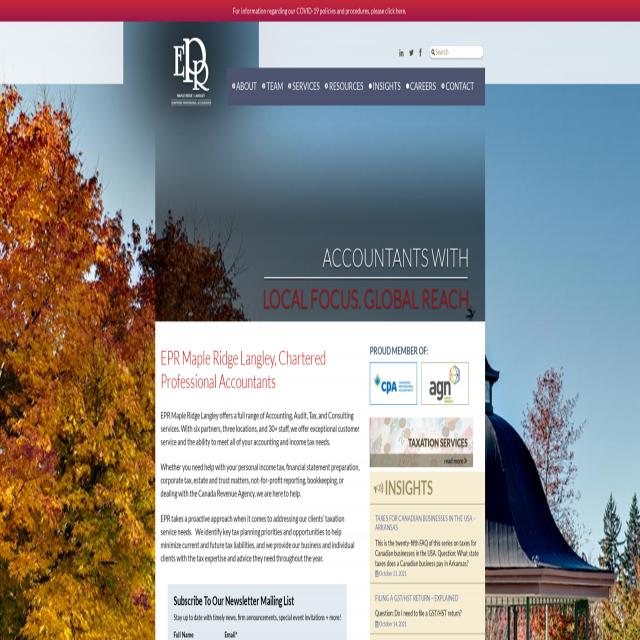button: (155, 38, 227, 106), (421, 362, 469, 405), (370, 362, 417, 405), (325, 75, 367, 101), (288, 75, 324, 101), (369, 75, 405, 101), (442, 75, 478, 101), (406, 75, 440, 101), (232, 75, 262, 101), (262, 75, 288, 101), (416, 45, 423, 58), (399, 48, 403, 58), (409, 48, 413, 58)
field: (429, 46, 484, 58)
